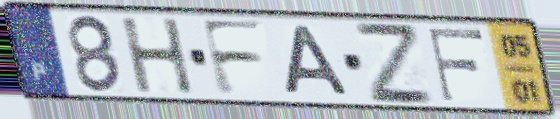8: (65, 12, 124, 96)
A: (282, 23, 354, 99)
F: (197, 17, 268, 98), (425, 26, 487, 104)
H: (117, 17, 198, 96)
Z: (350, 19, 439, 106)
